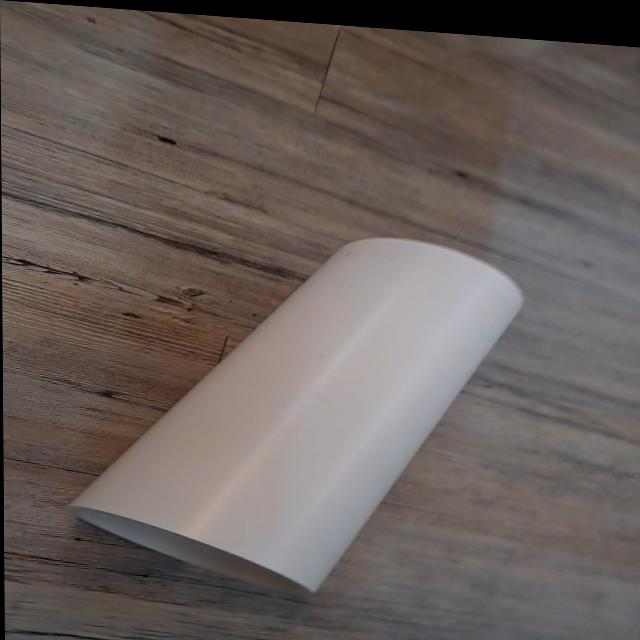CORAL: (49, 201, 536, 617)
